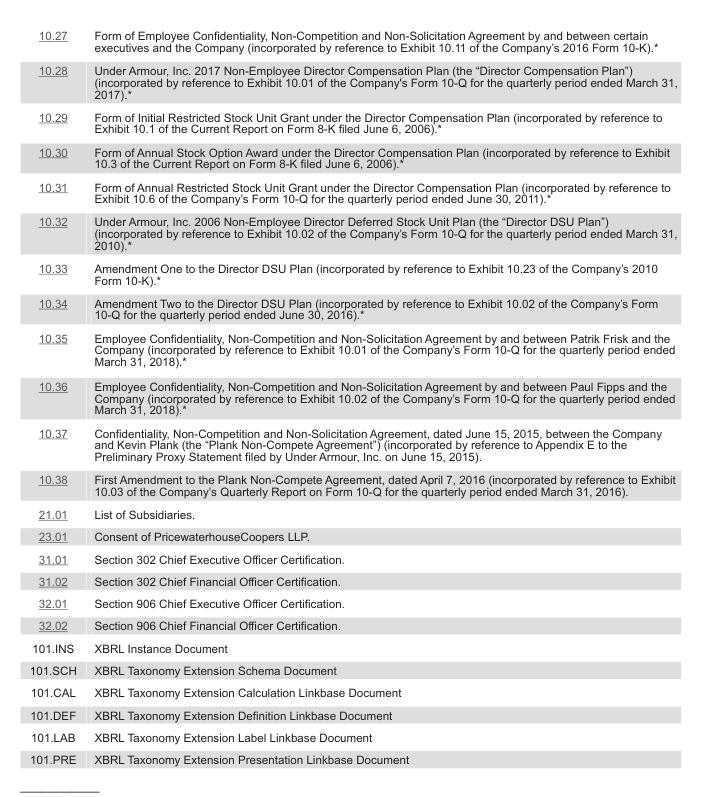table: (28, 28, 676, 765)
table column: (84, 28, 676, 765), (28, 28, 84, 765)
table row: (28, 58, 676, 105), (28, 209, 676, 256), (28, 326, 676, 373), (28, 373, 676, 420), (28, 420, 676, 467), (28, 139, 676, 174), (28, 174, 676, 209), (28, 256, 676, 291), (28, 291, 676, 326), (28, 467, 676, 502), (28, 105, 676, 139), (28, 28, 676, 58), (28, 502, 676, 525), (28, 569, 676, 592), (28, 658, 676, 681), (28, 725, 676, 748), (28, 525, 676, 547), (28, 547, 676, 569), (28, 592, 676, 614), (28, 614, 676, 636), (28, 636, 676, 658), (28, 681, 676, 703), (28, 703, 676, 725), (28, 748, 676, 765)
